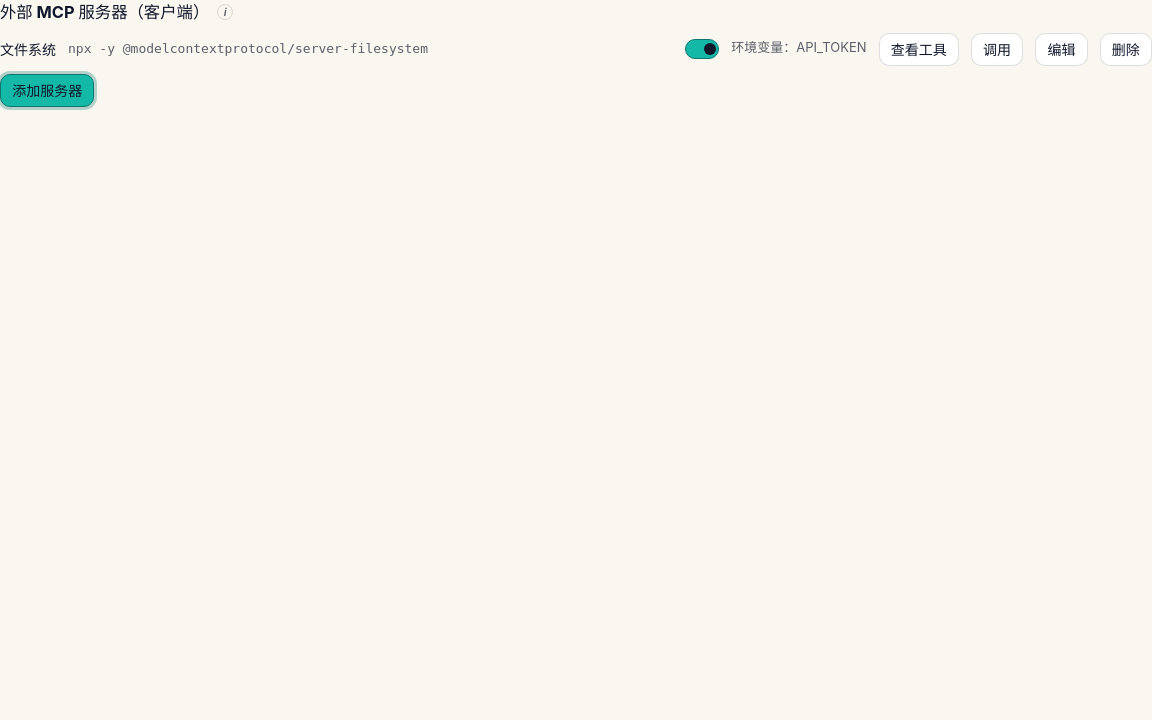
it: McpClientSettings › 从清单直调：工具名留空 → 提示补全，不打后端
Later steps or results of the test are not shown.
Click the button with test id "mcp-client-call-srv-1".
click(997, 49)  # box 971,33 -> 1023,66
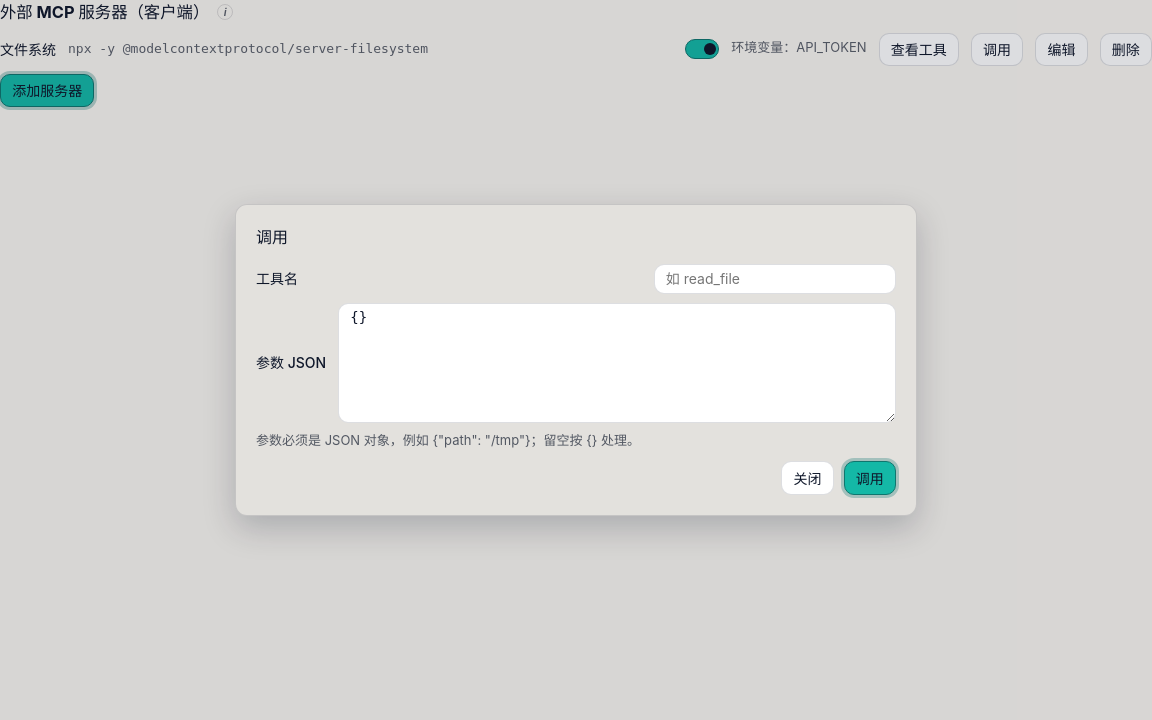
Click the button with test id "mcp-client-call-run".
click(870, 478)  # box 844,462 -> 896,495
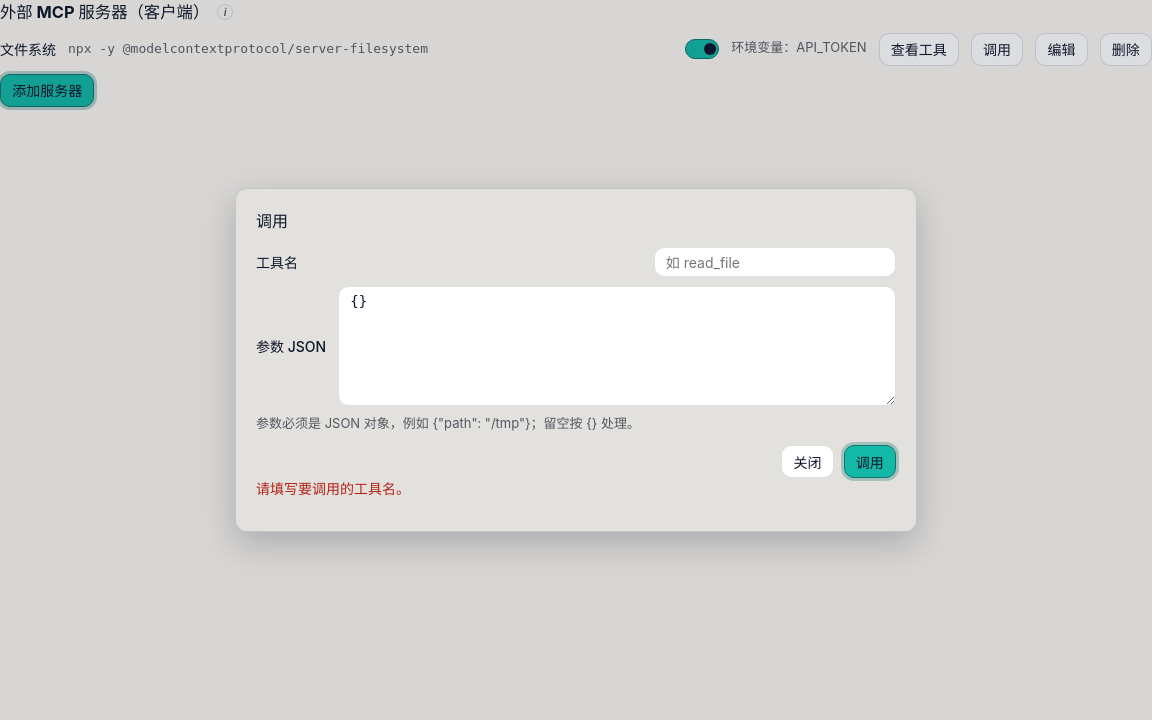
expect the text "请填写要调用的工具名。" is shown: met, box 256,480 -> 410,497
